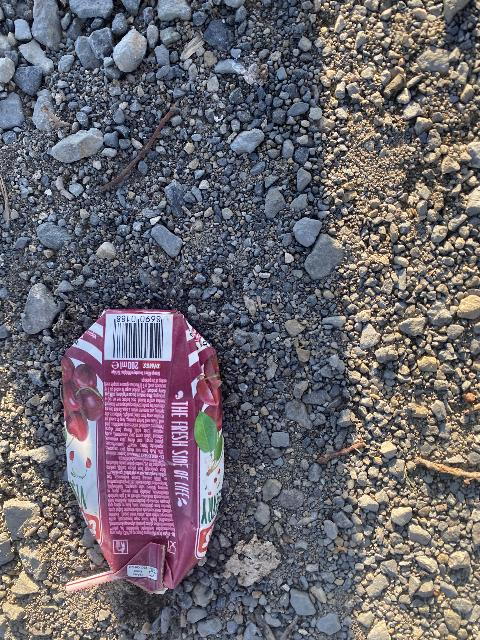Kagit: (78, 302, 222, 606)
Plastik: (59, 571, 135, 598)
